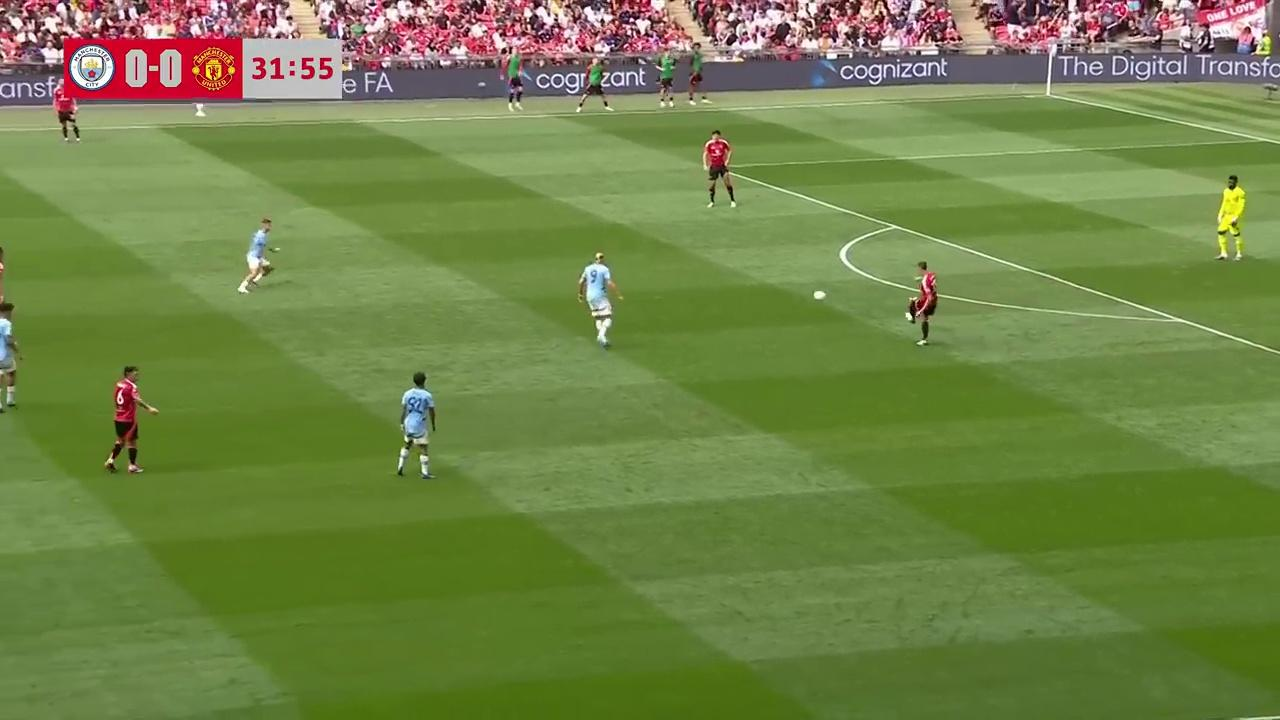ball: (811, 285, 828, 302)
player: (103, 365, 159, 477), (395, 372, 436, 480), (577, 251, 623, 347), (238, 216, 276, 293), (1215, 175, 1245, 262), (704, 133, 737, 209), (906, 266, 937, 346), (0, 303, 23, 410), (52, 87, 80, 142), (0, 242, 10, 311)
